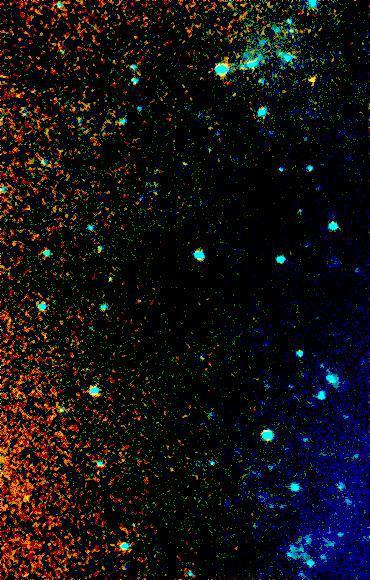star: (297, 65, 327, 95)
